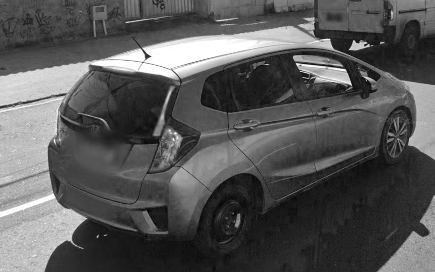car: (45, 37, 419, 257)
